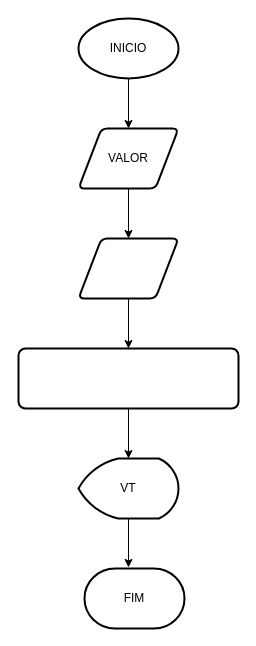
Image size: 256x646. Some labels were removed from this diagram. Here are the shapes that lost their labels. From the top down, the centre of each, then its label:
At point 128,268: "QNTD".
At point 128,378: "VT= QNT+VALOR".
